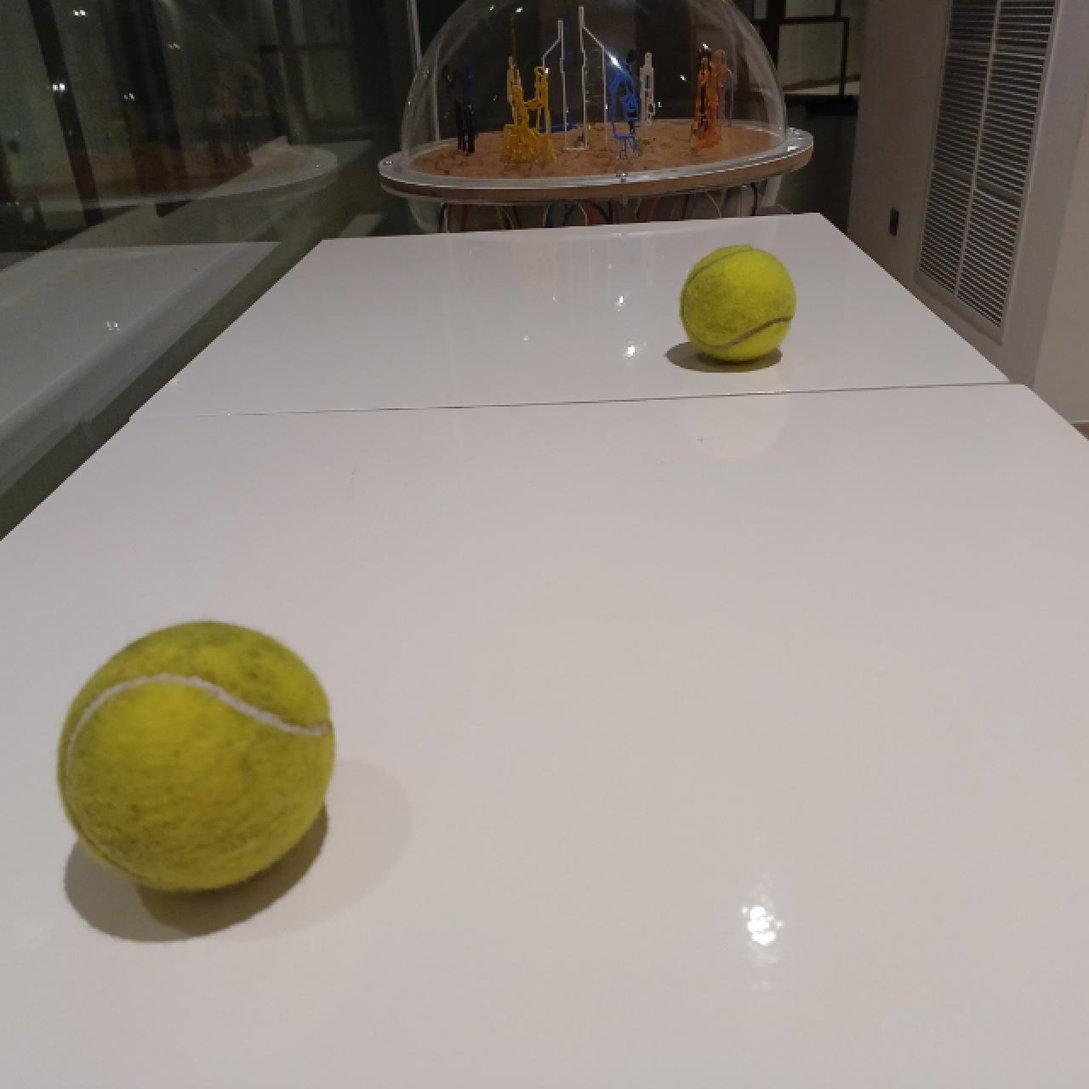tennis-ball: (57, 620, 336, 894), (679, 243, 798, 366)
